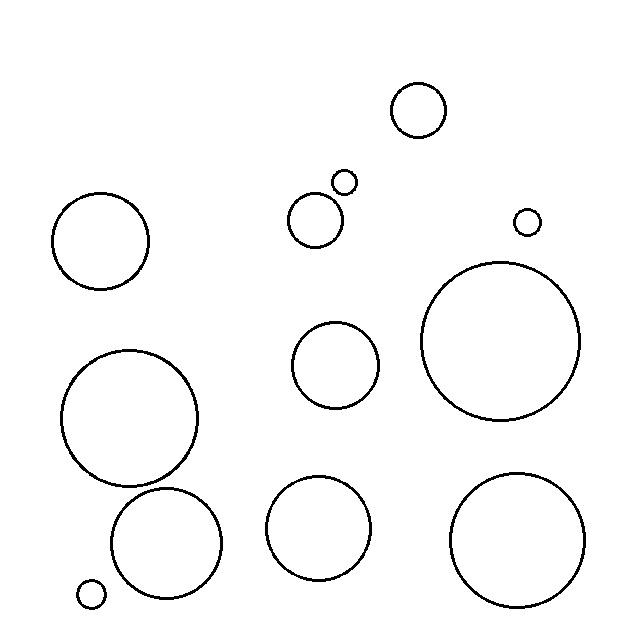circle: (417, 258, 585, 424), (56, 347, 204, 489), (447, 467, 589, 611), (107, 484, 225, 604), (262, 471, 376, 586), (49, 188, 152, 294), (289, 317, 383, 413), (284, 189, 347, 252), (387, 80, 450, 142), (73, 577, 109, 611), (512, 206, 544, 239), (329, 165, 360, 198)
